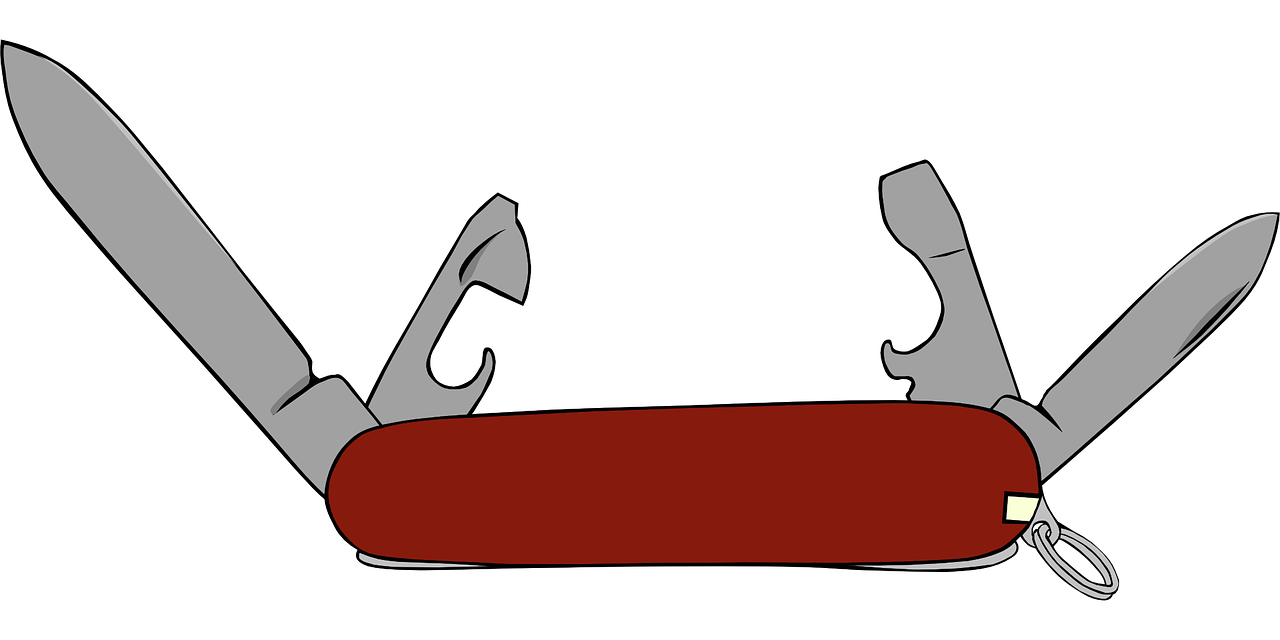knife: (2, 43, 374, 505), (994, 207, 1278, 478), (369, 185, 537, 434), (874, 157, 1024, 414)
